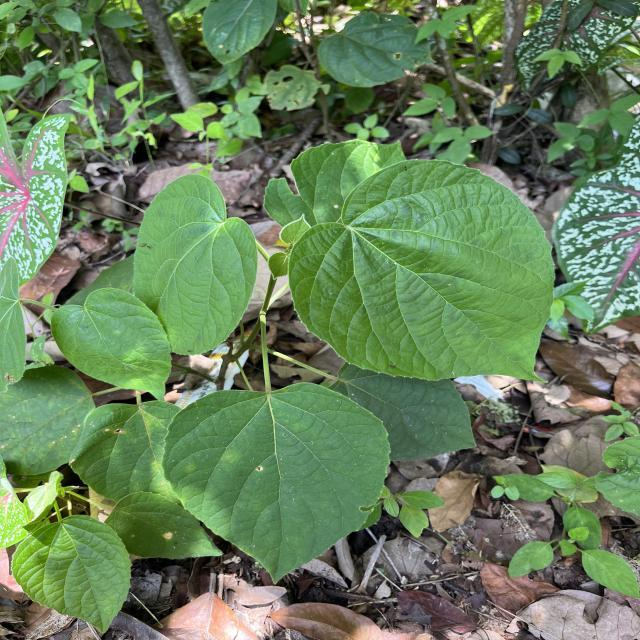Clerodendrum infortunatum: (286, 156, 558, 384), (160, 382, 393, 586), (130, 172, 259, 358), (332, 363, 484, 464), (10, 514, 133, 636), (50, 287, 174, 404)
